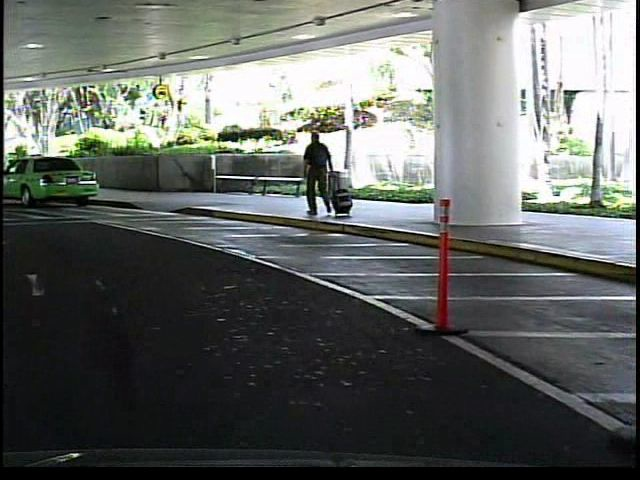person: (295, 124, 335, 224)
